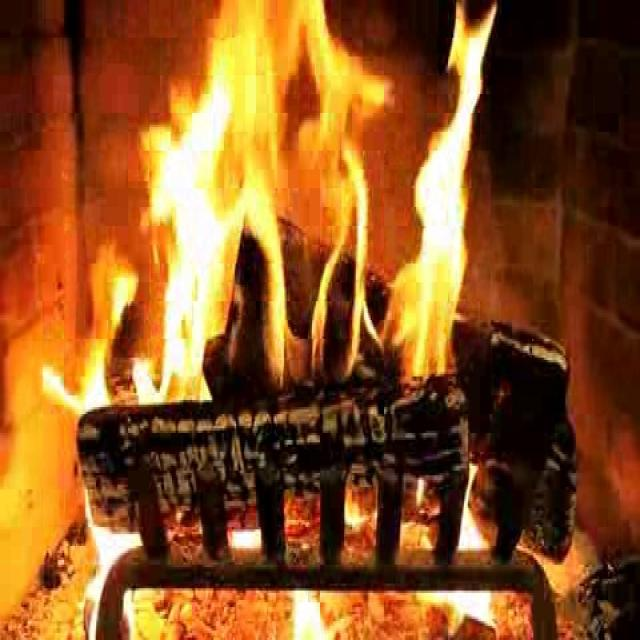fire: (131, 5, 476, 408)
